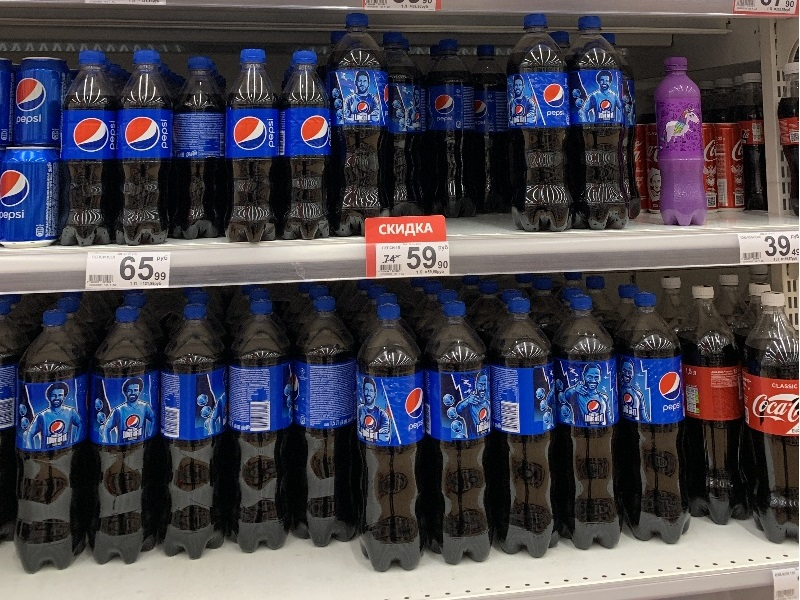lemonade: (344, 300, 433, 581), (613, 292, 705, 555), (15, 310, 102, 577), (550, 292, 636, 560), (487, 296, 570, 570), (421, 301, 502, 575), (79, 305, 163, 568), (285, 292, 369, 555), (218, 298, 299, 561), (157, 303, 234, 564), (496, 12, 580, 240), (679, 284, 753, 540), (322, 10, 400, 240), (563, 14, 635, 232), (53, 47, 124, 251), (214, 48, 284, 248), (747, 291, 798, 556), (416, 37, 489, 222), (163, 53, 231, 250), (114, 47, 178, 249), (276, 50, 339, 242)
